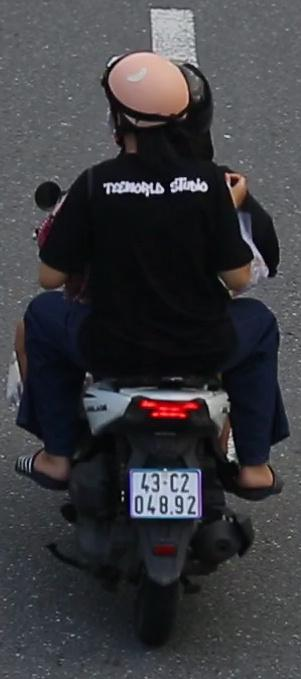LP: (126, 465, 206, 529)
helmet: (100, 48, 194, 158), (176, 53, 213, 145)
